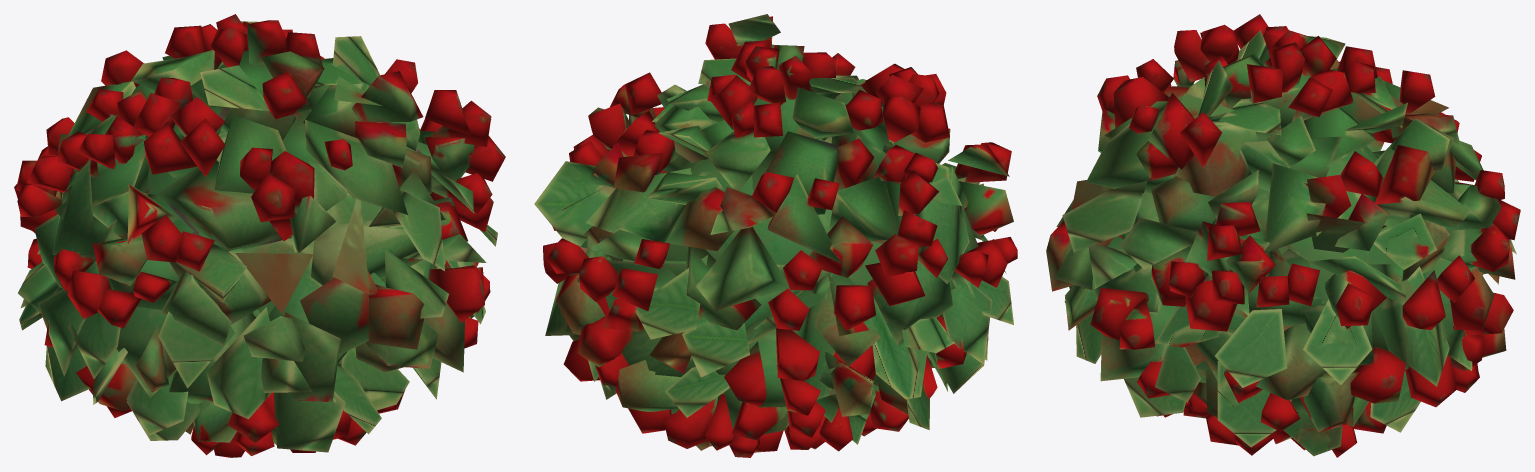
The model's file is bush-berry.glb.
The picture shows the model from 3 angles, left to right: view 1: azimuth 30°, elevation 25°; view 2: azimuth 150°, elevation 25°; view 3: azimuth 270°, elevation 25°; orthographic projection. The views are drawn at different scales.
Size of the model in its own units: 0.9992 by 0.8856 by 1.
Materials: 1 (1 with a texture image).
